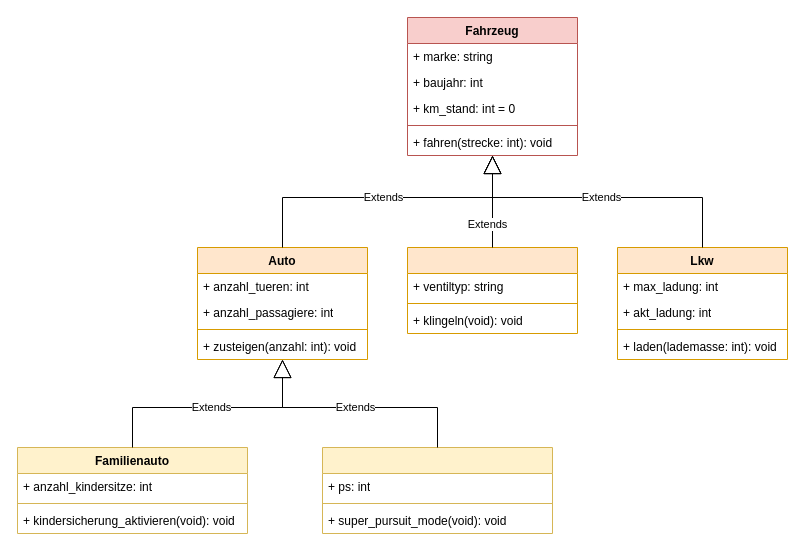
The diagram is 805 pixels wide and 554 high, and some of its shapes have lost their labels. The box of each missing label's shape, as (x1, y1, x2, y2) in pixels:
Fahrrad: (406, 246, 578, 334)
Sportwagen: (322, 446, 552, 534)
